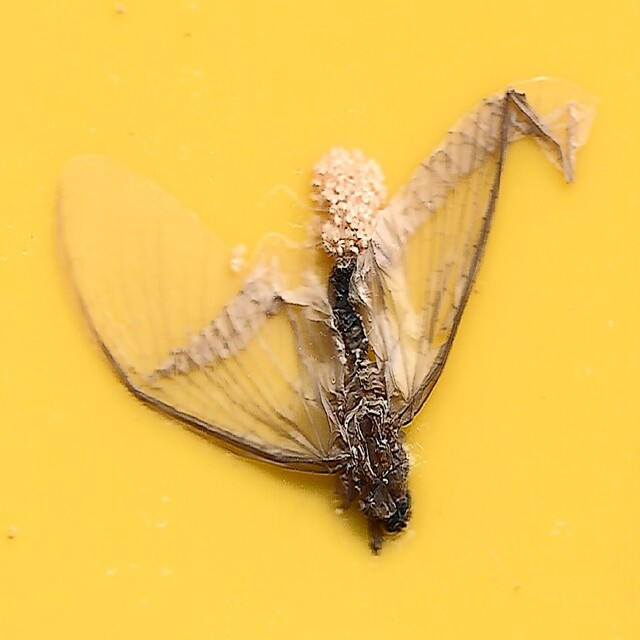Ephemeroptera: (54, 85, 586, 555)
